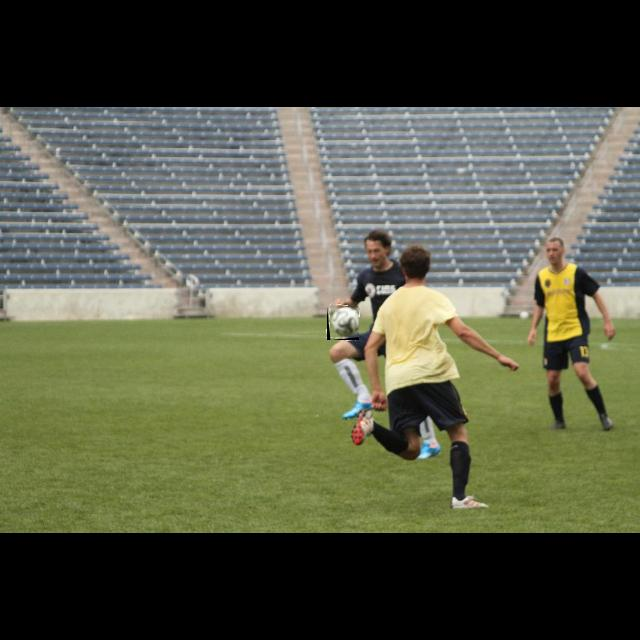Football: (327, 306, 359, 340)
